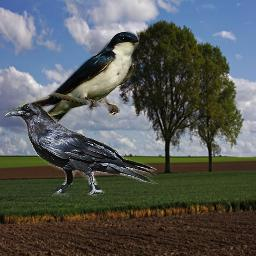Crow: (4, 102, 162, 198)
Swallow: (21, 31, 139, 134)
